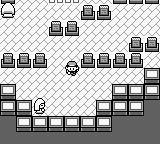main: (65, 61, 79, 76)
no-caminable: (0, 69, 159, 131), (0, 99, 159, 143), (80, 37, 159, 68), (0, 52, 48, 68), (49, 21, 80, 36), (81, 5, 111, 20), (113, 0, 159, 4)
npc: (0, 2, 15, 18), (34, 98, 46, 114)
